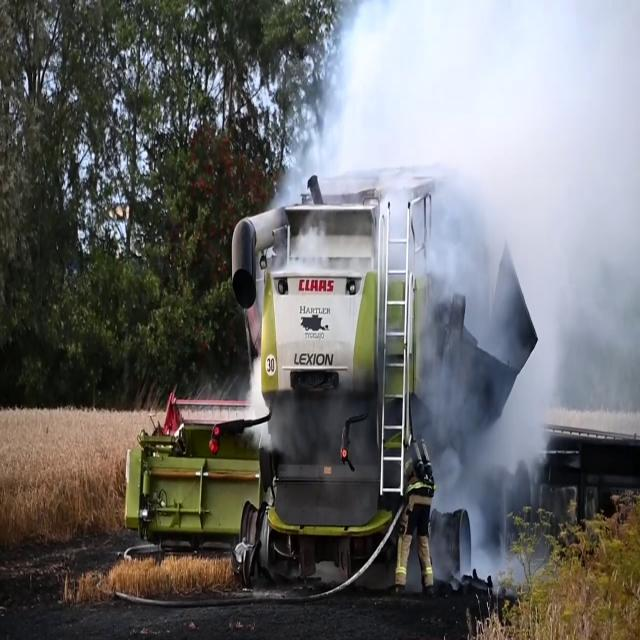Smoke: (290, 0, 636, 284), (414, 310, 530, 575)
